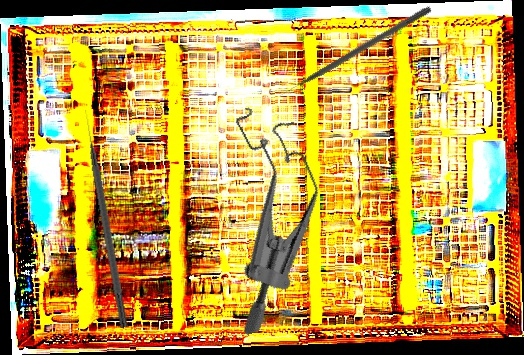Hook Surgical: (80, 108, 131, 329)
Pusher: (276, 3, 433, 100)
Speculum: (165, 92, 364, 337)
